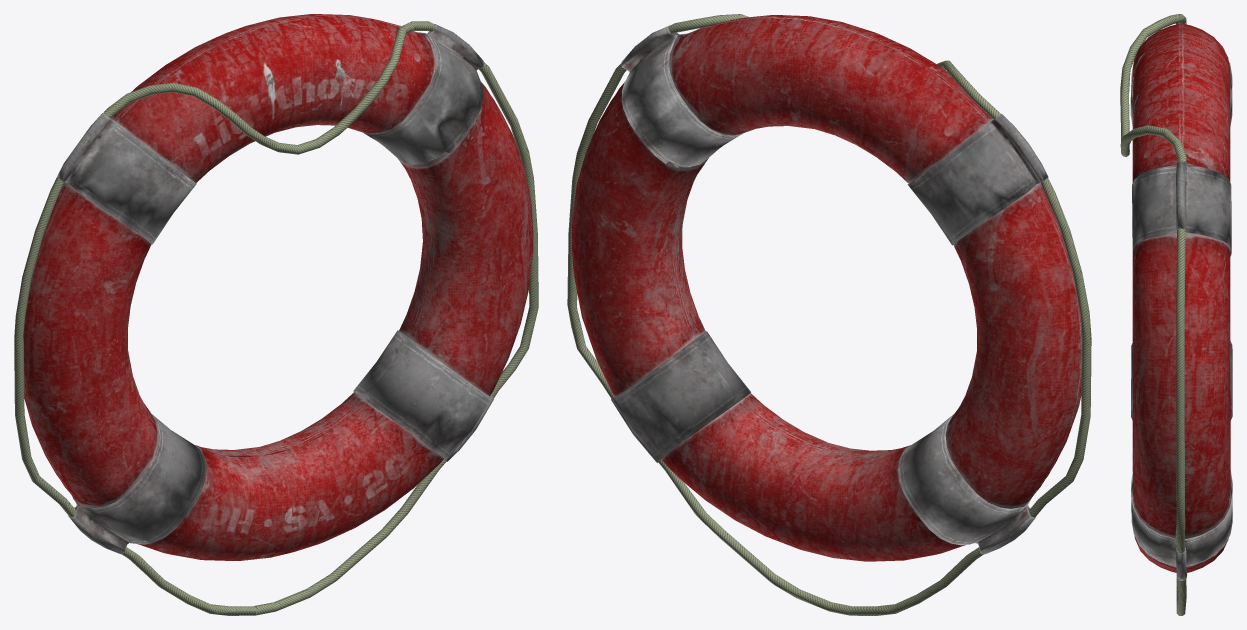
File: boia.glb
3 views of the same model, side by side, from view 1: azimuth 30°, elevation 25°; view 2: azimuth 150°, elevation 25°; view 3: azimuth 270°, elevation 25° (orthographic). The views are drawn at different scales.
Parts seen in each view (by area): view 1: boia; view 2: boia; view 3: boia.
Boxes of the visible parts, x1=… form: boia: x1=14, y1=14, x2=538, y2=615; boia: x1=567, y1=14, x2=1091, y2=615; boia: x1=1120, y1=14, x2=1232, y2=615.
Bounding box in the file's own units: 0.6264 × 0.673 × 0.124.
Materials: 1 (1 with a texture image).
